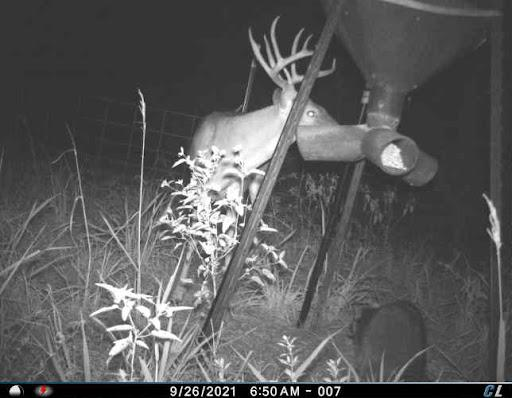Deer: (186, 9, 347, 311)
